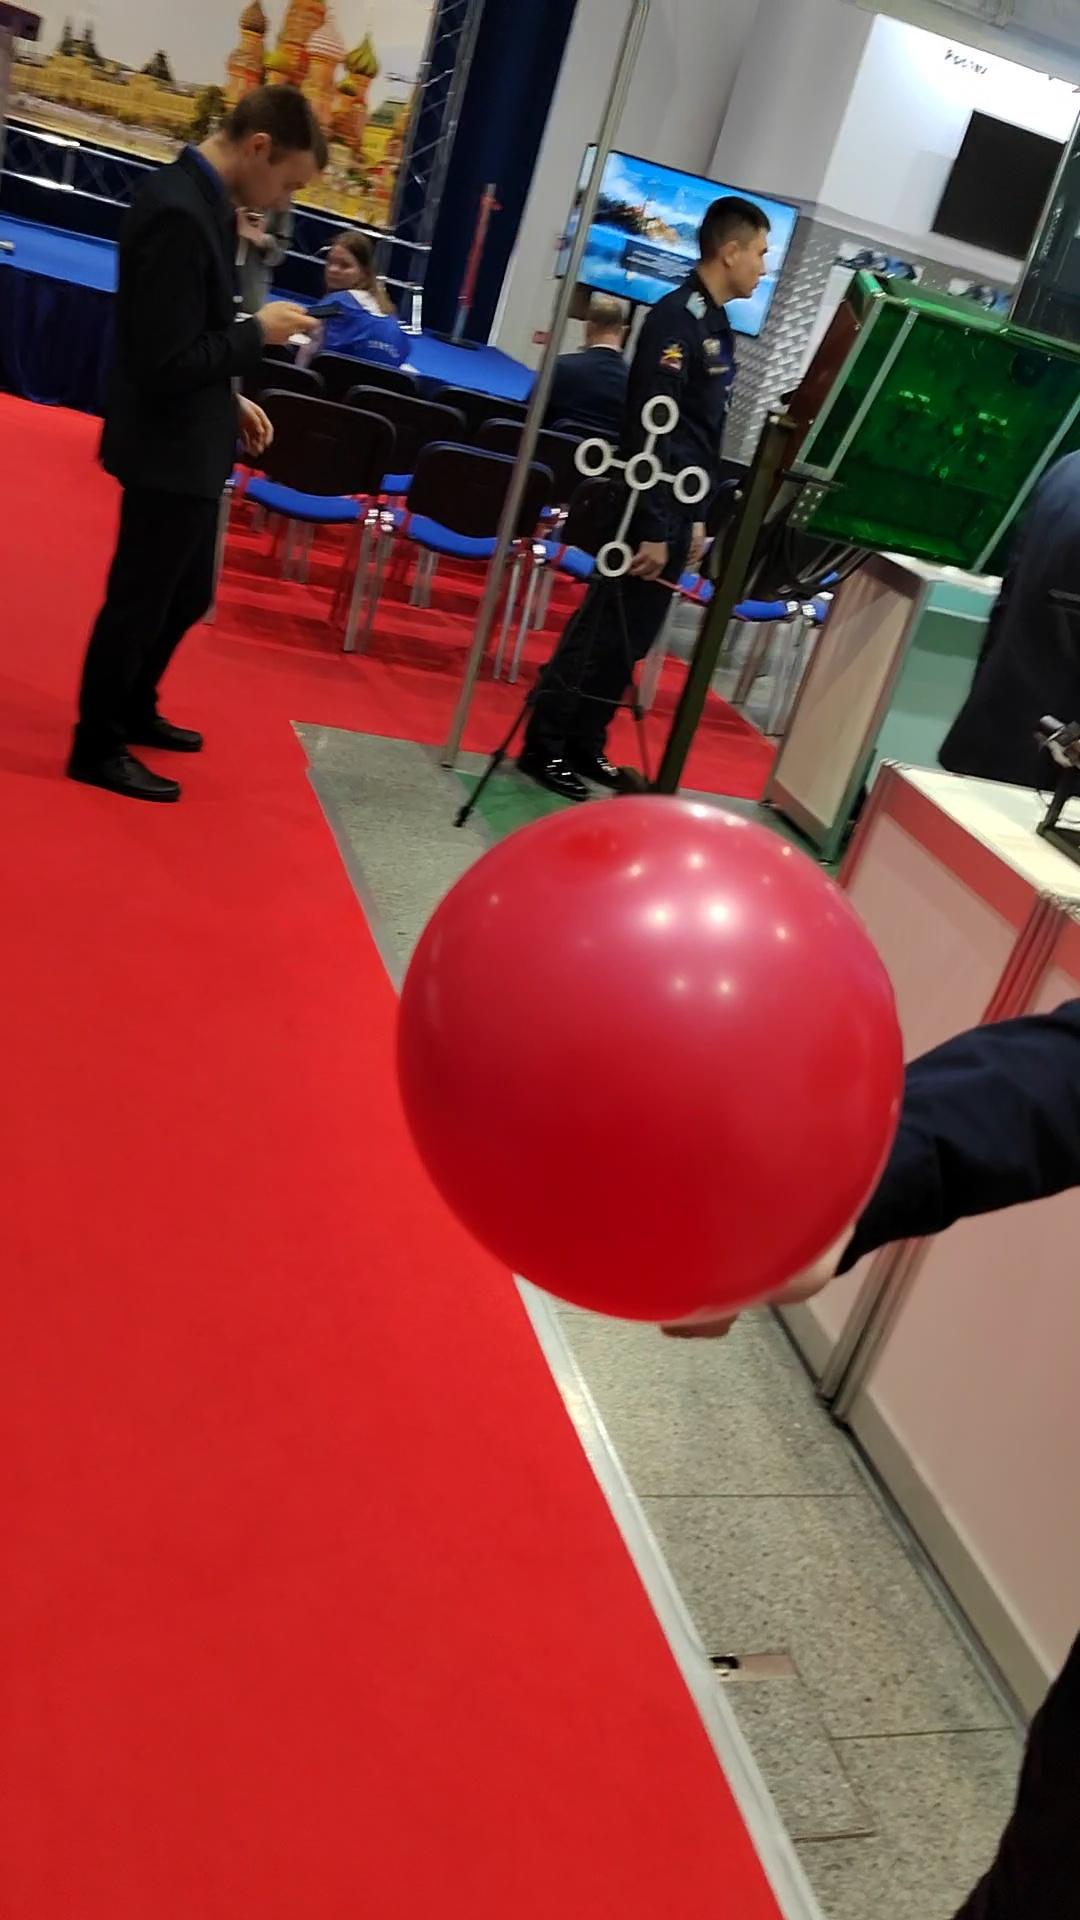red: (377, 782, 926, 1337)
